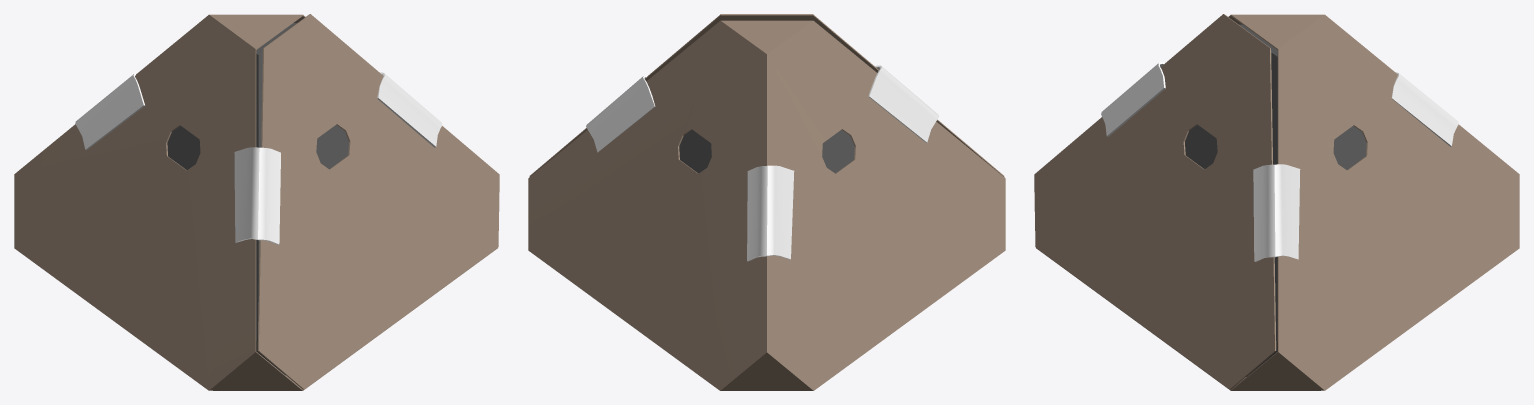
File: TrianglePackage.fbx
3 renders of one model, left to right at view 1: azimuth 30°, elevation 25°; view 2: azimuth 150°, elevation 25°; view 3: azimuth 270°, elevation 25°, orthographic.
Visible parts, largest first — view 1: pPlane5; view 2: pPlane5; view 3: pPlane5.
Boxes of the visible parts, x1=… form: pPlane5: x1=14, y1=14, x2=499, y2=390; pPlane5: x1=528, y1=14, x2=1005, y2=390; pPlane5: x1=1034, y1=14, x2=1519, y2=390.
Size of the model in its own units: 1.11 by 0.7138 by 1.2.
